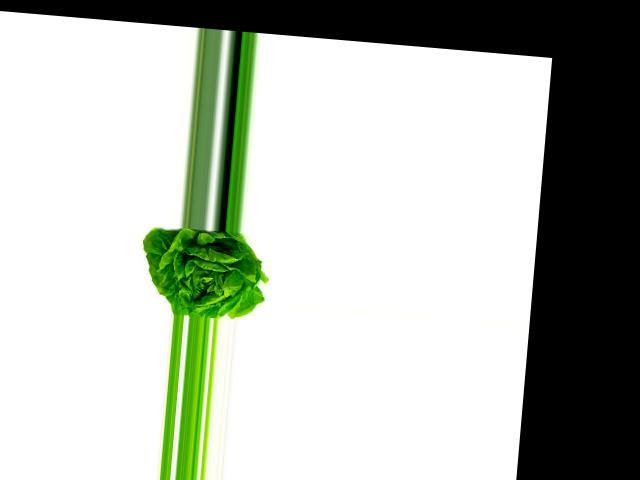lettuce: (135, 223, 266, 321)
